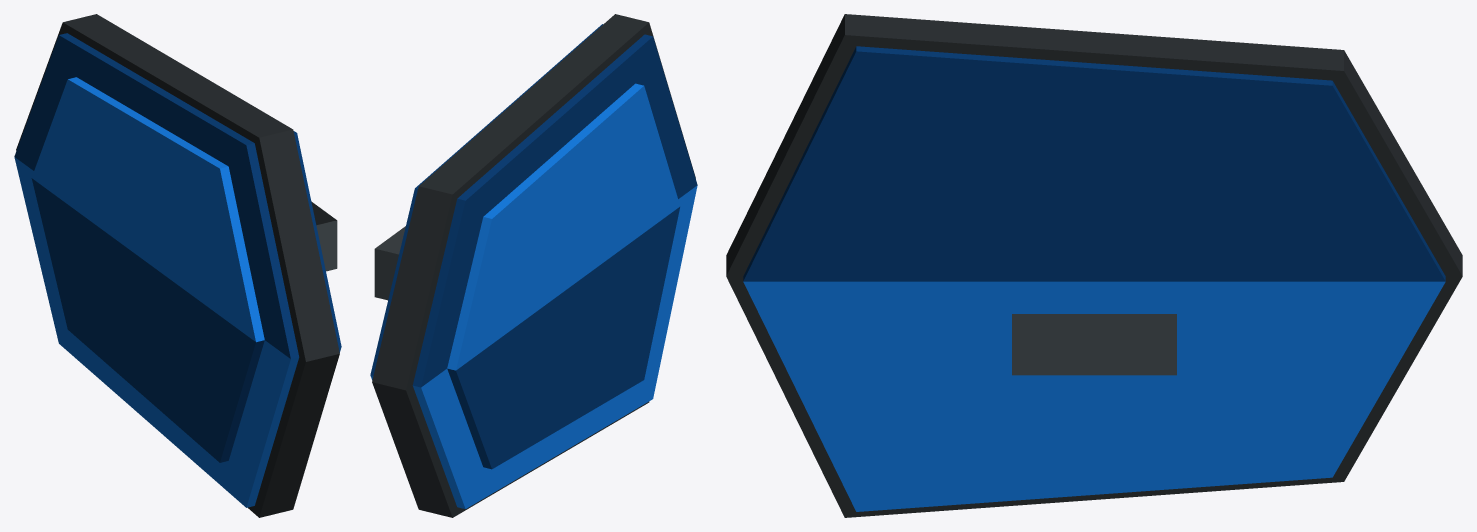
Rendered from Shield 02.FBX.
3 views of the same model, side by side, from view 1: azimuth 30°, elevation 25°; view 2: azimuth 150°, elevation 25°; view 3: azimuth 270°, elevation 25° (orthographic). The views are drawn at different scales.
Visible parts, largest first — view 1: Shield 02; view 2: Shield 02; view 3: Shield 02.
Part boxes in pixels (x1,y1,x2,y2): Shield 02: [14, 14, 341, 517]; Shield 02: [370, 14, 697, 517]; Shield 02: [726, 14, 1462, 517].
Bounding box in the file's own units: 25.7 × 57.95 × 80.1.
Materials: 1 (1 with a texture image).
